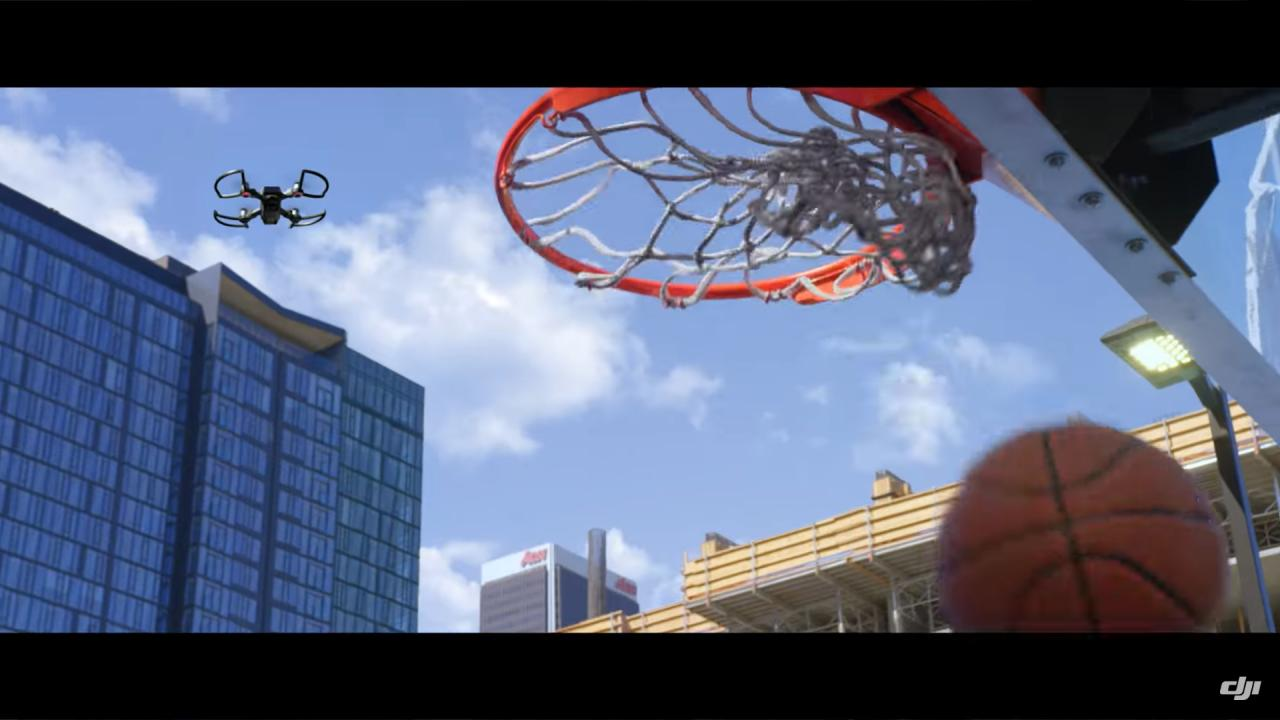Drone: (200, 150, 342, 243)
